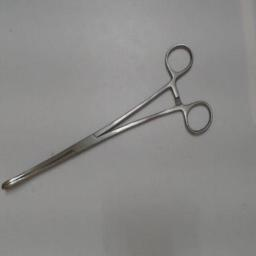Sponge Forceps: (1, 39, 215, 195)
